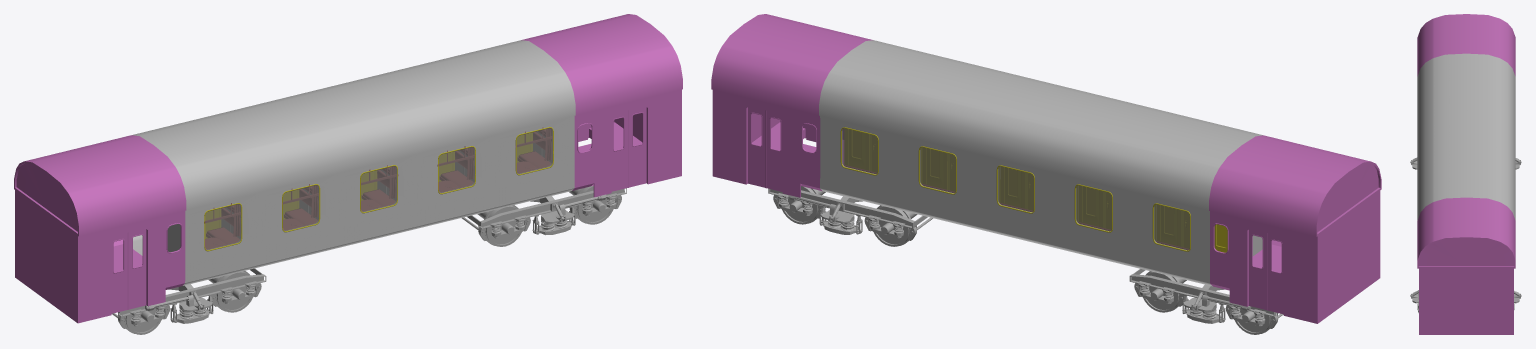
The model's file is Fixed.fbx.
3 views of the same model, side by side, from view 1: azimuth 30°, elevation 25°; view 2: azimuth 150°, elevation 25°; view 3: azimuth 270°, elevation 25° (orthographic). The views are drawn at different scales.
Visible parts, largest first — view 1: part01 (×5), TrainBody01, Wheels, WindowGlass01 (×5); view 2: part01 (×5), TrainBody01, Wheels, WindowGlass02 (×5), DoorFrame01 (×5); view 3: TrainBody01, part01 (×5), Wheels.
Boxes of the visible parts, box(x1,y1,x2,y2) form: part01 (×5): box(132, 40, 575, 285); TrainBody01: box(14, 14, 682, 323); Wheels: box(112, 185, 626, 334); WindowGlass01 (×5): box(205, 128, 552, 250); part01 (×5): box(819, 40, 1262, 286); TrainBody01: box(711, 14, 1381, 323); Wheels: box(768, 186, 1283, 334); WindowGlass02 (×5): box(842, 128, 1189, 250); DoorFrame01 (×5): box(844, 128, 1227, 252); TrainBody01: box(1417, 14, 1515, 334); part01 (×5): box(1417, 53, 1515, 220); Wheels: box(1410, 157, 1521, 312).
Size of the model in its own units: 2368 by 613 by 498.
